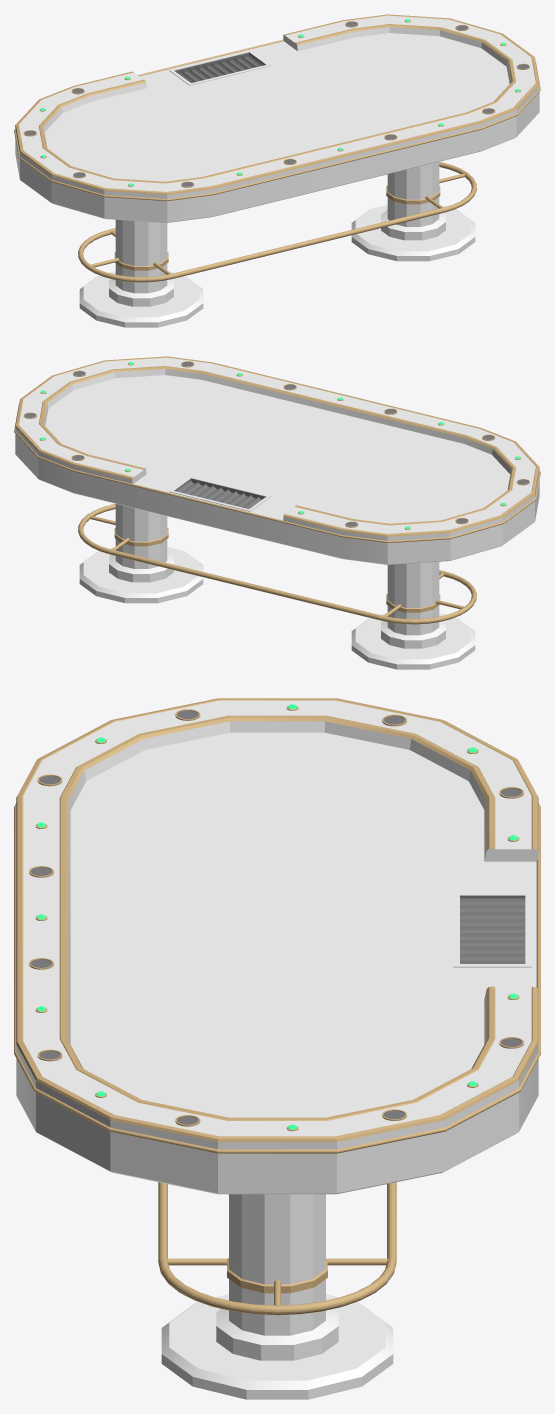
Rendered from poker-table.web.glb.
3 renders of one model, top to bottom at view 1: azimuth 30°, elevation 25°; view 2: azimuth 150°, elevation 25°; view 3: azimuth 270°, elevation 25°, orthographic. The views are drawn at different scales.
Parts seen in each view (by area): view 1: poker-table; view 2: poker-table; view 3: poker-table.
Boxes of the visible parts, <box> form: poker-table: <box>14,14,540,327</box>; poker-table: <box>14,356,540,669</box>; poker-table: <box>14,698,540,1399</box>.
Size of the model in its own units: 8.03 by 2.63 by 4.03.
